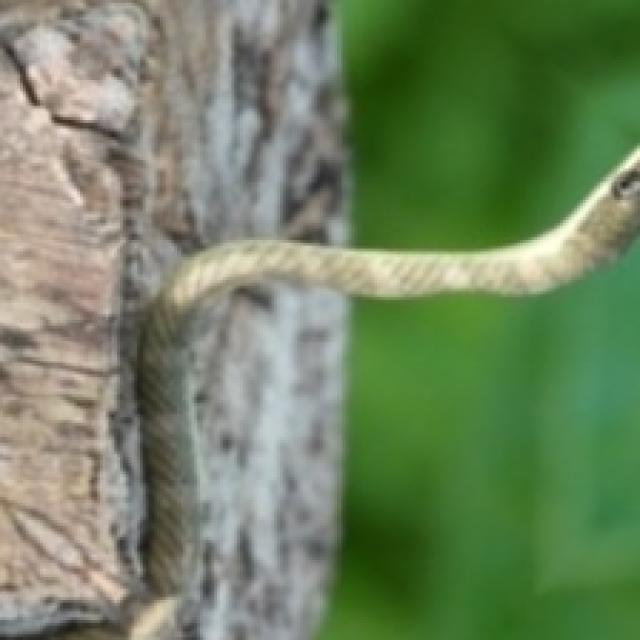paradise tree snake: (0, 111, 637, 637)
